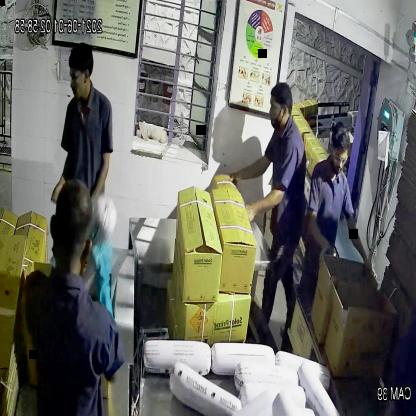goggles: (329, 146, 351, 170)
